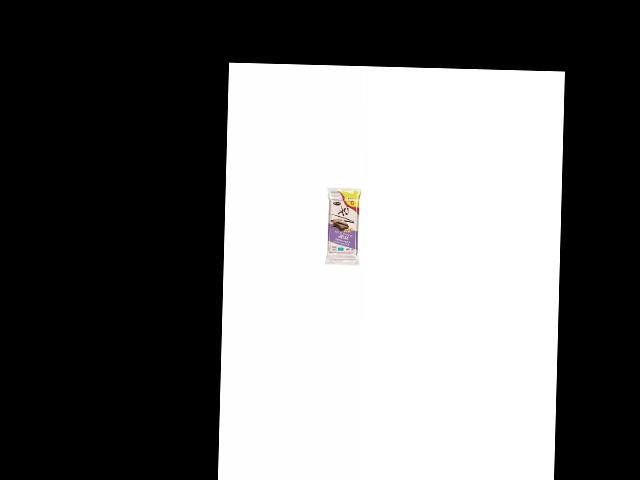chocolate: (322, 185, 363, 266)
